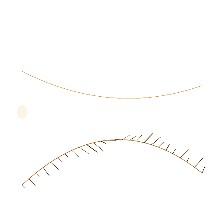foreign_body_visible: (135, 81, 185, 120)
